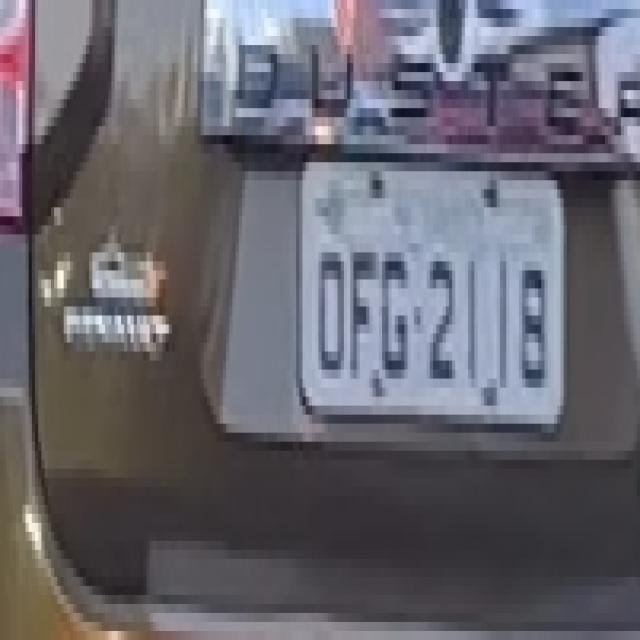Placa_mercosul_carro: (293, 157, 567, 434)
